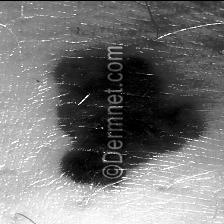Potentially Malignant Skin Tumors: (54, 55, 200, 188)
